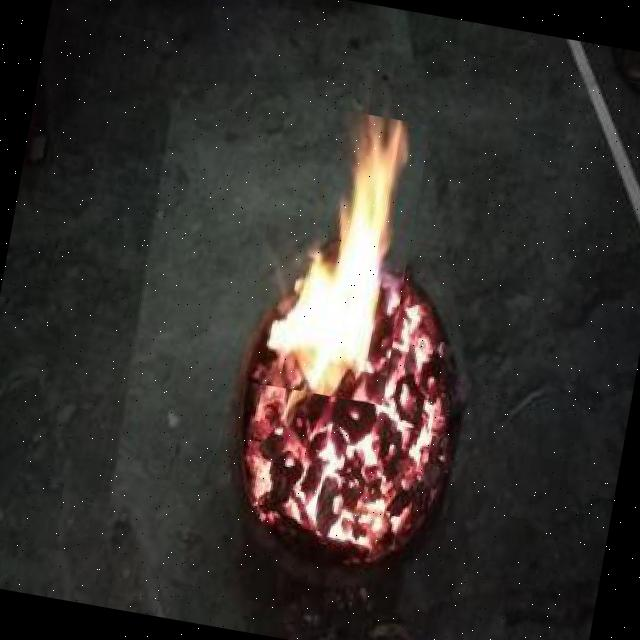fire: (238, 100, 431, 405)
